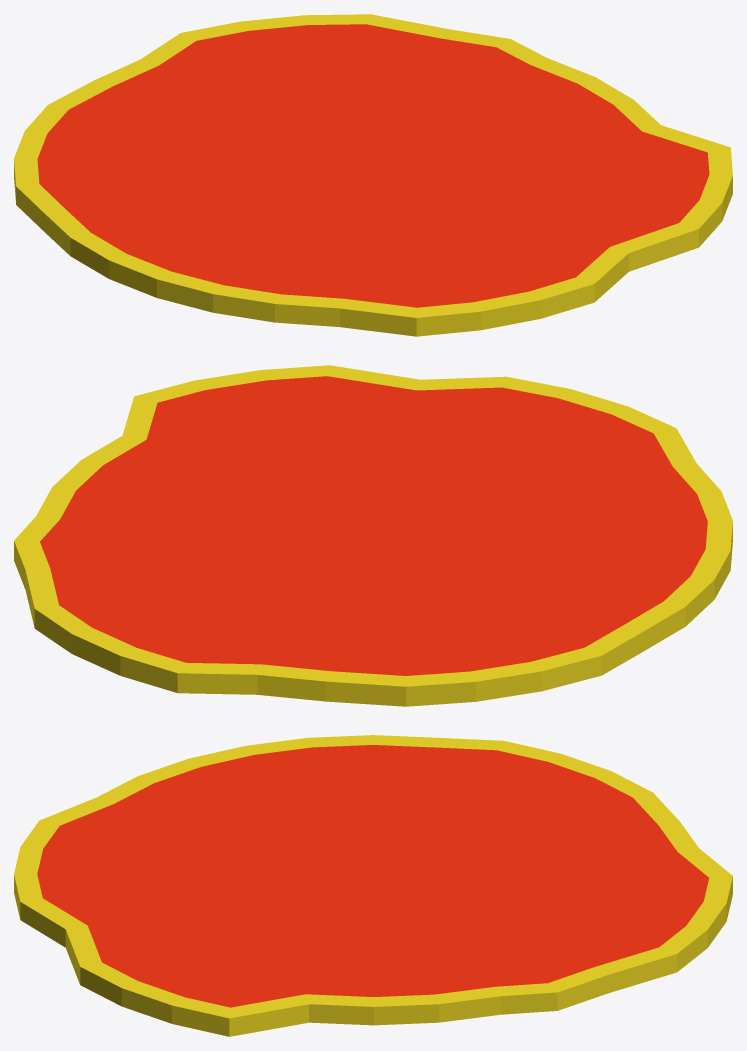
File: Lava.fbx
The picture shows the model from 3 angles, top to bottom: view 1: azimuth 30°, elevation 25°; view 2: azimuth 150°, elevation 25°; view 3: azimuth 270°, elevation 25°; orthographic projection. The views are drawn at different scales.
Visible parts, largest first — view 1: Lava; view 2: Lava; view 3: Lava.
Boxes of the visible parts, <box> form: Lava: <box>14,14,732,336</box>; Lava: <box>14,365,732,706</box>; Lava: <box>14,735,732,1036</box>.
Bounding box in the file's own units: 3.37 × 3.61 × 0.1023.
